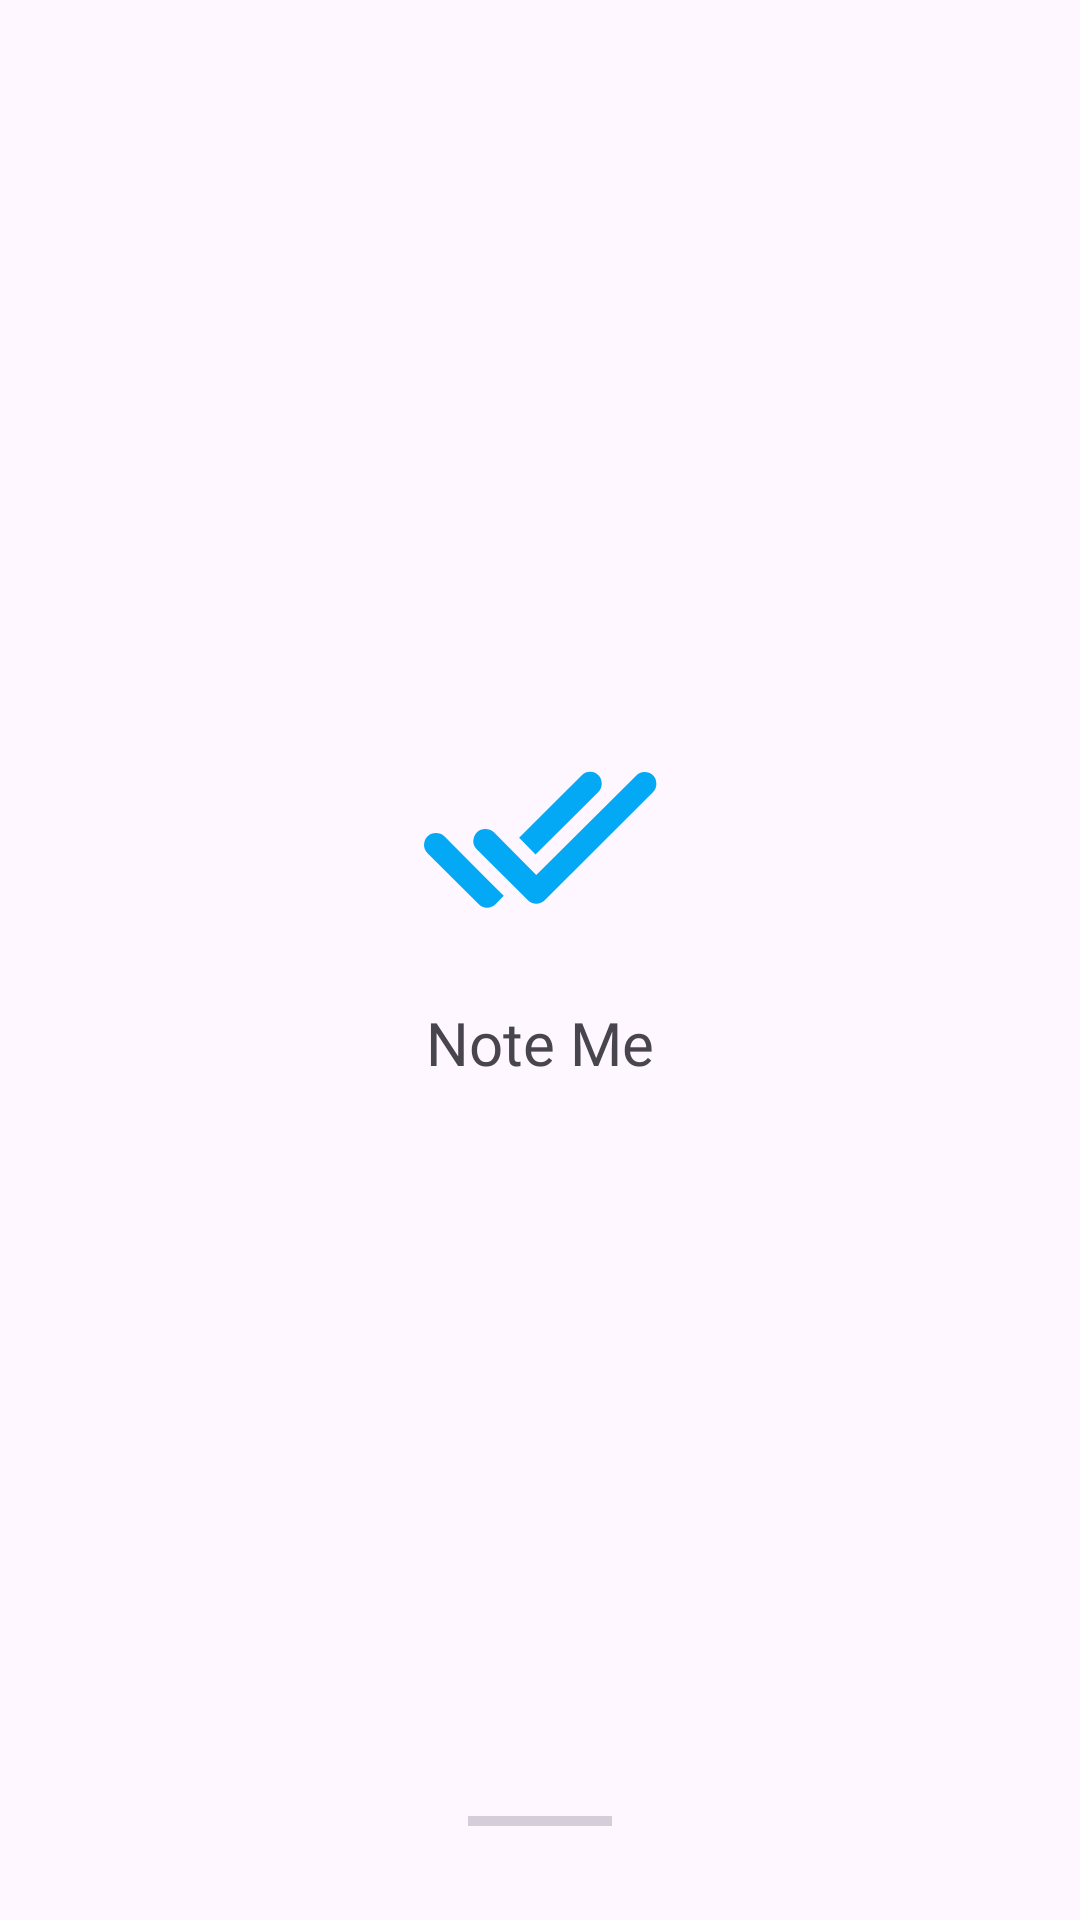

Icons on this 1080w x 1920h Android screen, each with its box as BBox(x1, y1, x2, y2):
done all: BBox(424, 771, 657, 908)
